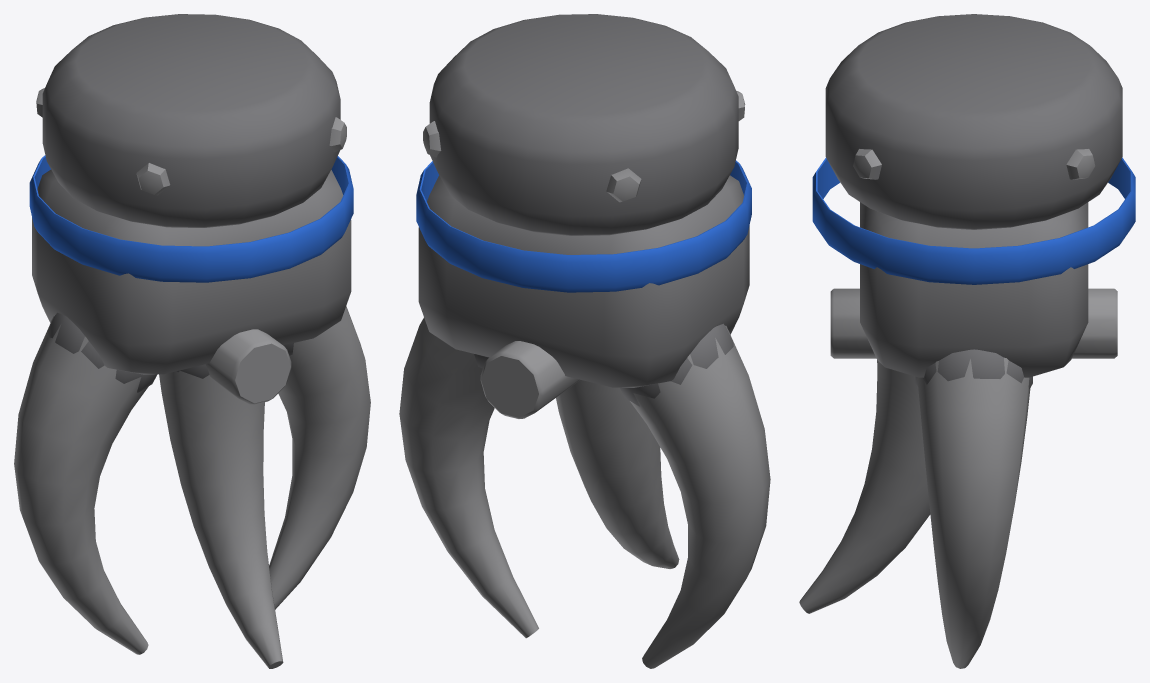
File: Kit_Hand_Claw.glb
The picture shows the model from 3 angles, left to right: view 1: azimuth 30°, elevation 25°; view 2: azimuth 150°, elevation 25°; view 3: azimuth 270°, elevation 25°; orthographic projection. The views are drawn at different scales.
Visible parts, largest first — view 1: Kit_Hand_Claw; view 2: Kit_Hand_Claw; view 3: Kit_Hand_Claw.
Part boxes in pixels (x1,y1,x2,y2): Kit_Hand_Claw: [14, 14, 370, 668]; Kit_Hand_Claw: [399, 14, 770, 668]; Kit_Hand_Claw: [799, 14, 1135, 668].
Size of the model in its own units: 0.1233 by 0.1946 by 0.1031.
